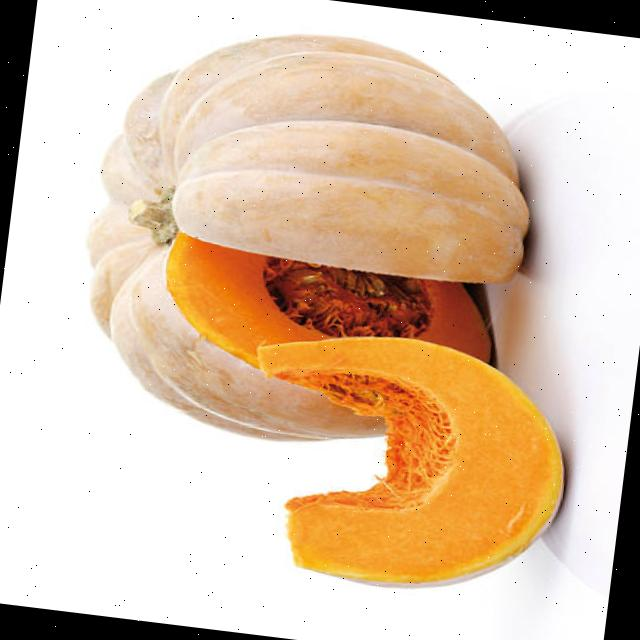pumpkin: (258, 336, 562, 585)
